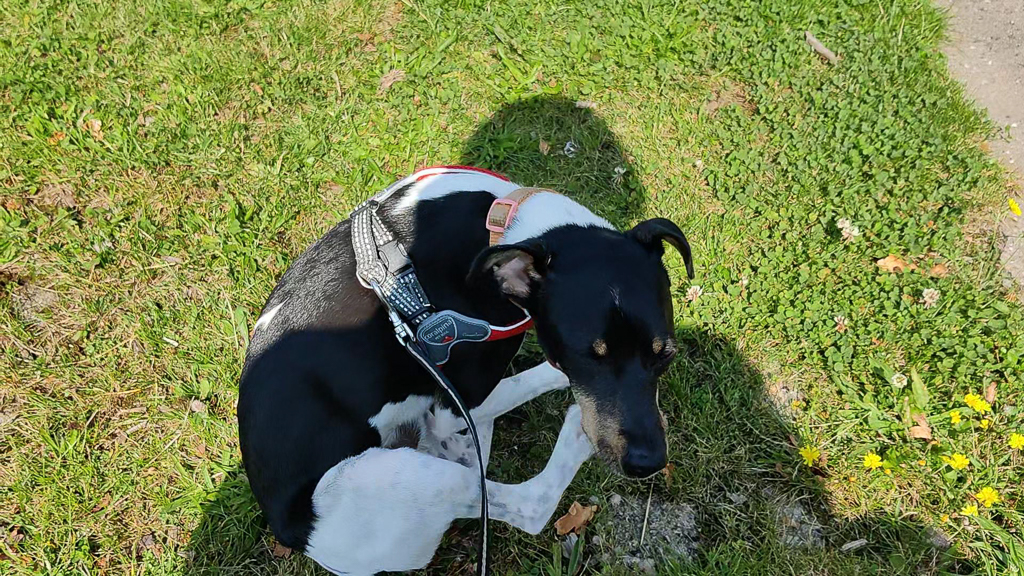Dog: (223, 148, 708, 576)
